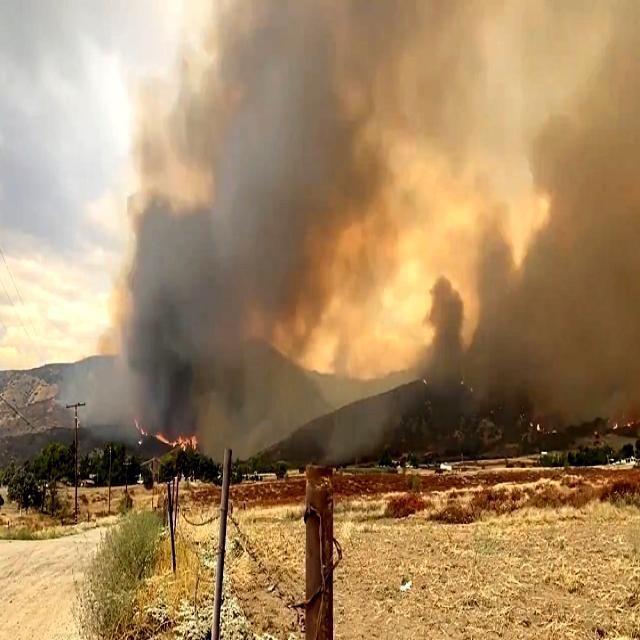Smoke: (115, 0, 640, 405)
